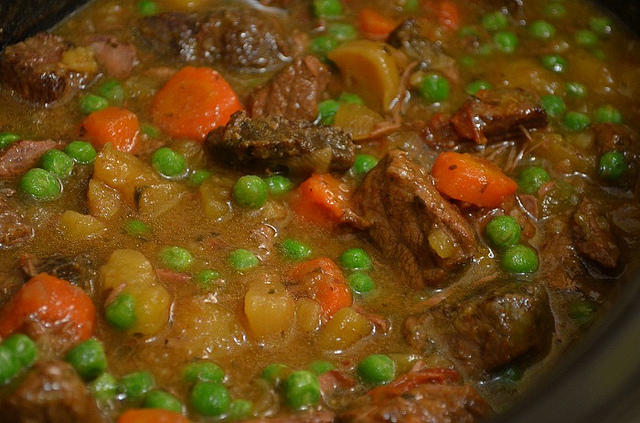boiled peas: (116, 352, 401, 415), (2, 334, 113, 395), (538, 52, 621, 133), (22, 141, 96, 203), (486, 213, 539, 277), (229, 173, 295, 208), (338, 249, 373, 302), (78, 79, 124, 117), (515, 162, 546, 197), (277, 235, 312, 265), (162, 242, 192, 276), (226, 249, 260, 275), (600, 151, 626, 184), (153, 145, 180, 176), (195, 264, 225, 291), (353, 153, 376, 173)
